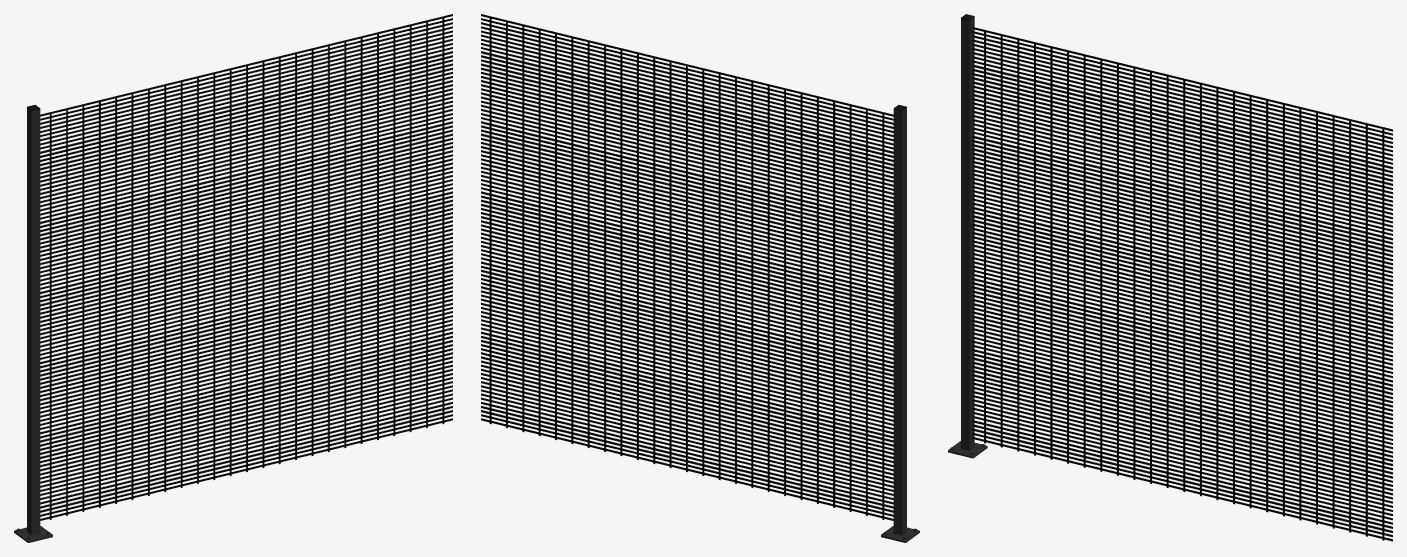
File: SM05_Safety_Fence_01_Straight_2500.fbx
3 views of the same model, side by side, from view 1: azimuth 30°, elevation 25°; view 2: azimuth 150°, elevation 25°; view 3: azimuth 330°, elevation 25° (orthographic).
Visible parts, largest first — view 1: SM05_Safety_Fence_01_Straight_2500; view 2: SM05_Safety_Fence_01_Straight_2500; view 3: SM05_Safety_Fence_01_Straight_2500.
Boxes of the visible parts, <box> form: SM05_Safety_Fence_01_Straight_2500: <box>14,14,452,542</box>; SM05_Safety_Fence_01_Straight_2500: <box>481,14,919,542</box>; SM05_Safety_Fence_01_Straight_2500: <box>948,14,1392,541</box>.
Bounding box in the file's own units: 2.55 × 2.41 × 0.15.
